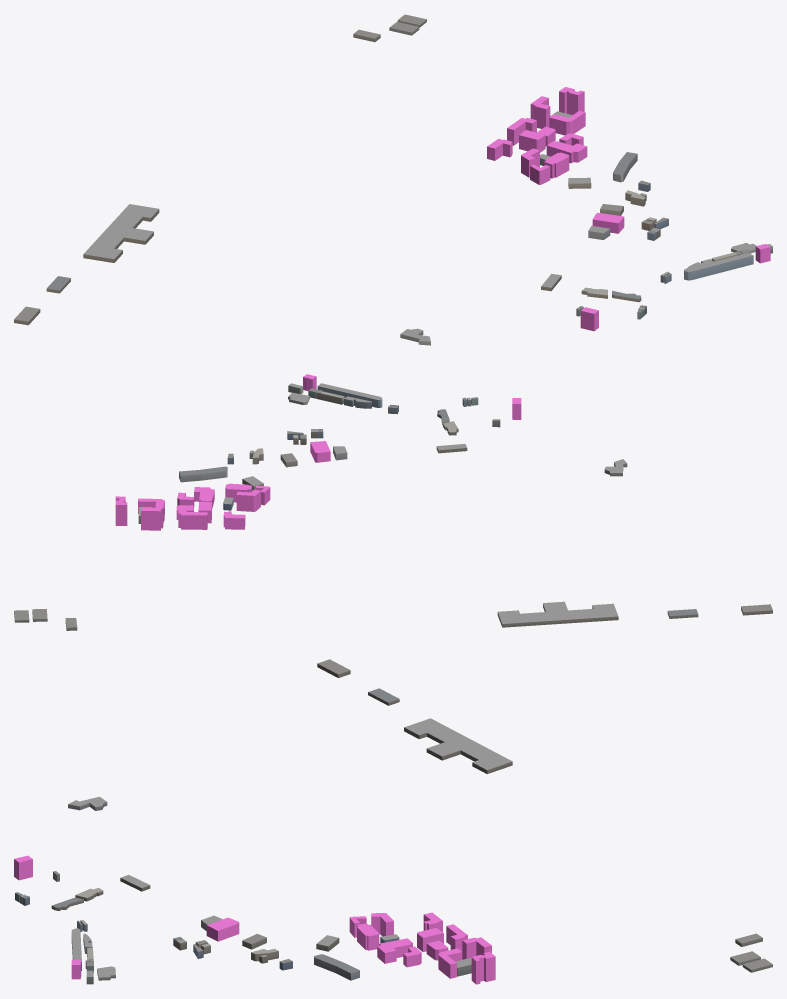
The model's file is bld_13_13.fbx.
The picture shows the model from 3 angles, top to bottom: view 1: azimuth 30°, elevation 25°; view 2: azimuth 150°, elevation 25°; view 3: azimuth 270°, elevation 25°; orthographic projection. The views are drawn at different scales.
Visible parts, largest first — view 1: bld_13_13_LOD0, bld_13_13_COL; view 2: bld_13_13_LOD0, bld_13_13_COL; view 3: bld_13_13_LOD0, bld_13_13_COL.
Boxes of the visible parts, x1,y1,x2,y2 form: bld_13_13_LOD0: (14,14,772,345); bld_13_13_COL: (487,87,770,331); bld_13_13_LOD0: (14,383,772,630); bld_13_13_COL: (115,374,521,530); bld_13_13_LOD0: (15,659,772,984); bld_13_13_COL: (14,855,495,984).
Size of what is drawn, in the model's own units: 1923 by 65.25 by 1917.
